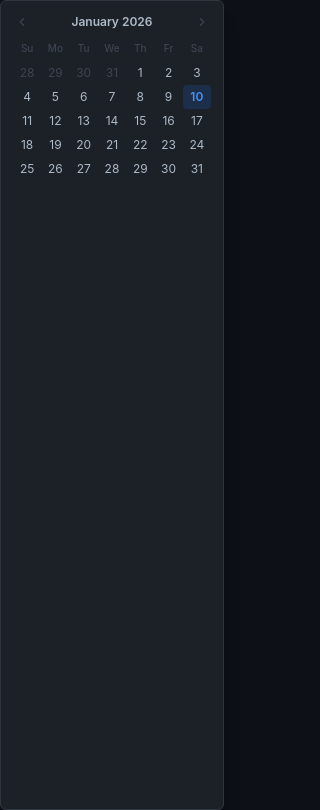
Test: DatePicker › wraps from January to December of the previous year
This screenshot has width=320, height=810.
Press the mouse on the button named "Previous month" at point(22, 22), box [13,13,31,31]
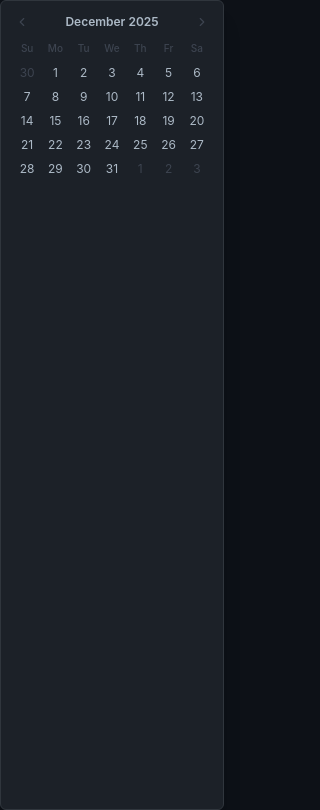
Expected: the text "December 2025" is shown, [65,14,159,30]
